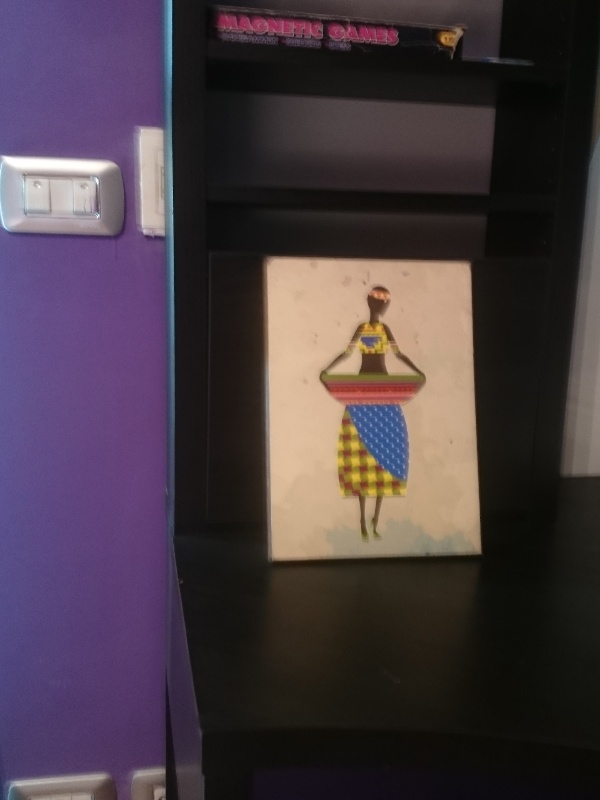my image: (267, 257, 477, 560)
